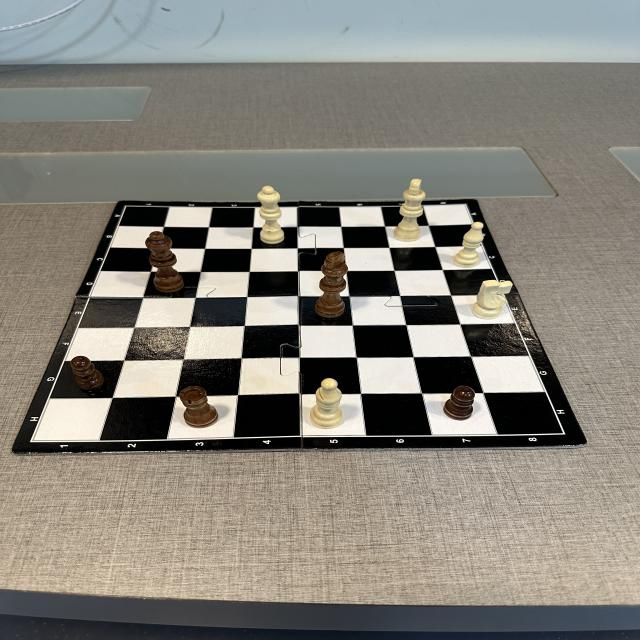Black-King: (316, 252, 348, 317)
Black-Pawn: (71, 356, 105, 389), (445, 386, 476, 418)
Black-Queen: (145, 232, 185, 290)
Black-Rook: (178, 386, 218, 428)
White-Bishop: (310, 376, 342, 428), (456, 222, 483, 267)
White-King: (394, 178, 425, 241)
White-Knight: (474, 279, 512, 319)
White-Queen: (256, 186, 284, 243)
